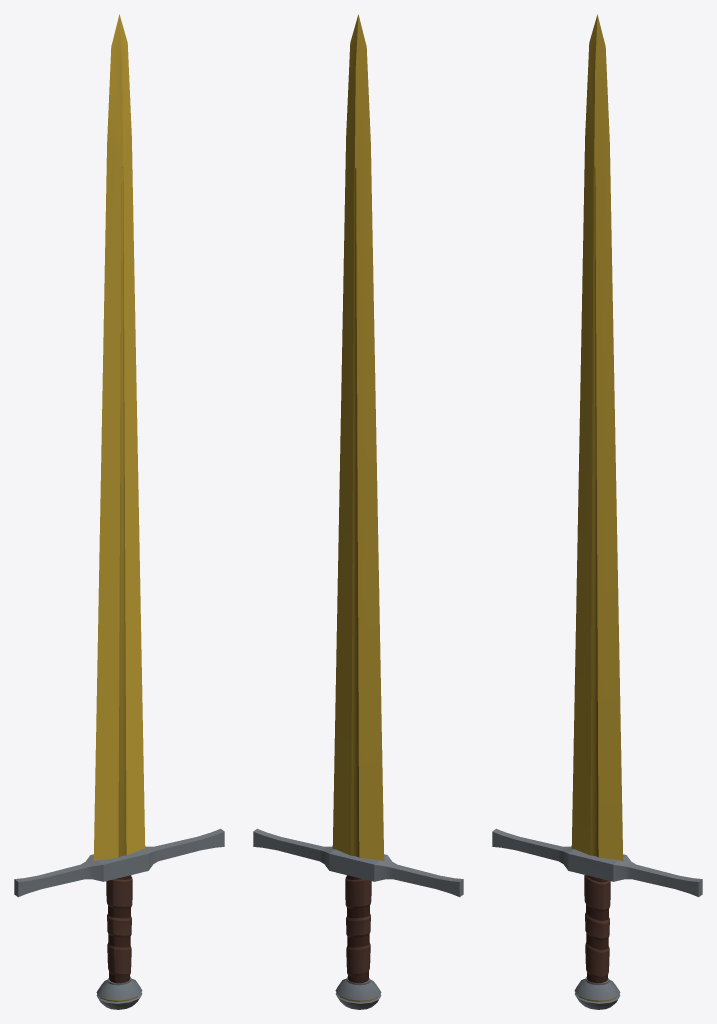
File: SM_Sword01_ArmingSword_2Gold.fbx
3 renders of one model, left to right at view 1: azimuth 30°, elevation 25°; view 2: azimuth 150°, elevation 25°; view 3: azimuth 330°, elevation 25°, orthographic.
Parts seen in each view (by area): view 1: Cube.421, Cube.422, Cylinder.520, Sphere.147; view 2: Cube.421, Cube.422, Cylinder.520, Sphere.147; view 3: Cube.421, Cube.422, Cylinder.520, Sphere.147.
Part boxes in pixels (x1,y1,x2,y2): Cube.421: (93, 14, 145, 861); Cube.422: (14, 828, 224, 897); Cylinder.520: (106, 875, 132, 983); Sphere.147: (96, 976, 142, 1009); Cube.421: (332, 14, 384, 861); Cube.422: (253, 828, 463, 897); Cylinder.520: (345, 875, 371, 983); Sphere.147: (335, 976, 381, 1009); Cube.421: (571, 14, 623, 861); Cube.422: (492, 828, 702, 897); Cylinder.520: (584, 875, 610, 983); Sphere.147: (574, 976, 620, 1009).
Size of the model in its own units: 0.2 by 0.9179 by 0.0351.
